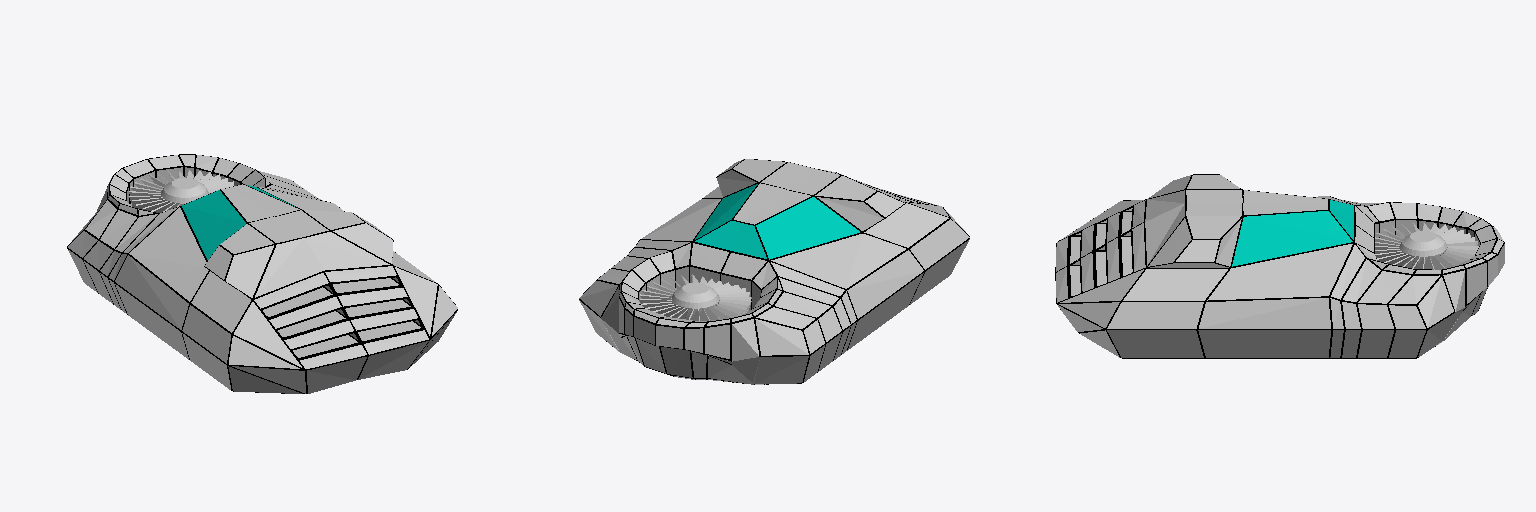
The model's file is hover_0.0.obj.
3 views of the same model, side by side, from view 1: azimuth 30°, elevation 25°; view 2: azimuth 150°, elevation 25°; view 3: azimuth 270°, elevation 25° (orthographic).
Parts seen in each view (by area): view 1: Cube, Cylinder; view 2: Cube, Cylinder; view 3: Cube, Cylinder.
Part boxes in pixels (x1,y1,x2,y2): Cube: (67,154,457,393); Cylinder: (129,170,233,212); Cube: (579,159,969,384); Cylinder: (639,274,751,320); Cube: (1055,174,1504,358); Cylinder: (1375,222,1478,269).
Size of the model in its own units: 4.94 by 2.17 by 8.31.